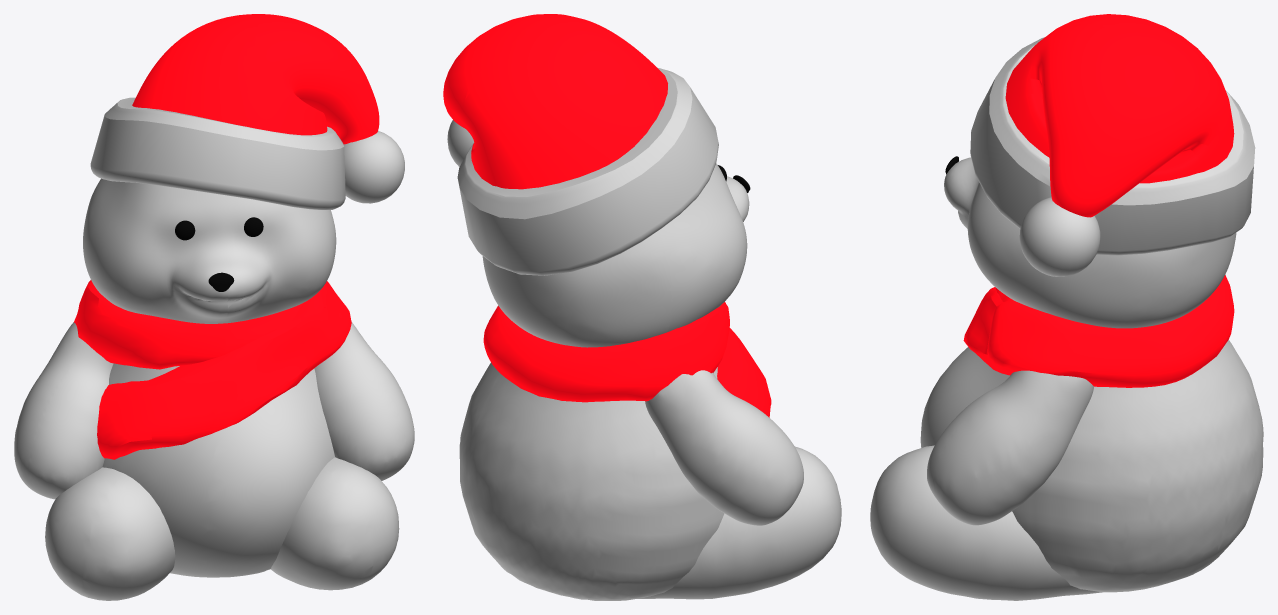
Rendered from Bear.fbx.
The picture shows the model from 3 angles, left to right: view 1: azimuth 30°, elevation 25°; view 2: azimuth 150°, elevation 25°; view 3: azimuth 270°, elevation 25°; orthographic projection. The views are drawn at different scales.
Visible parts, largest first — view 1: BezierCurve; view 2: BezierCurve; view 3: BezierCurve.
Part boxes in pixels (x1=…): BezierCurve: x1=14, y1=14, x2=414, y2=600; BezierCurve: x1=443, y1=14, x2=841, y2=600; BezierCurve: x1=870, y1=14, x2=1263, y2=600.
Size of the model in its own units: 365 by 505 by 319.
